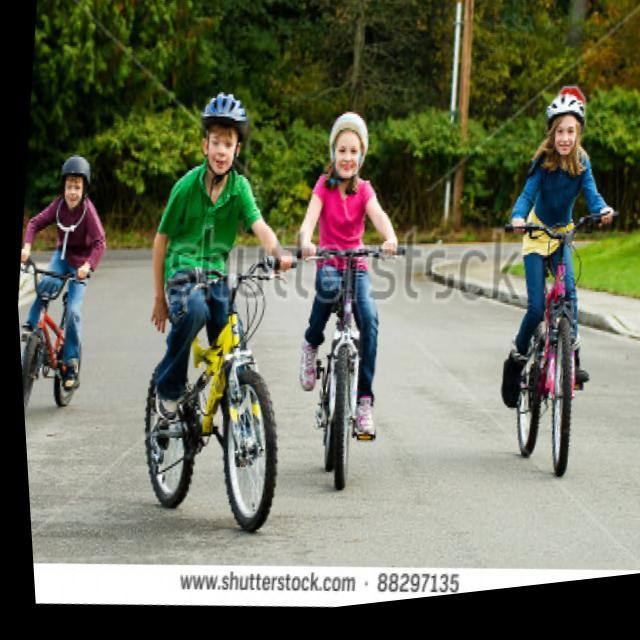Helmet: (192, 82, 256, 190), (534, 90, 592, 170), (54, 150, 94, 218)
Nonhelmet: (311, 102, 381, 184)
